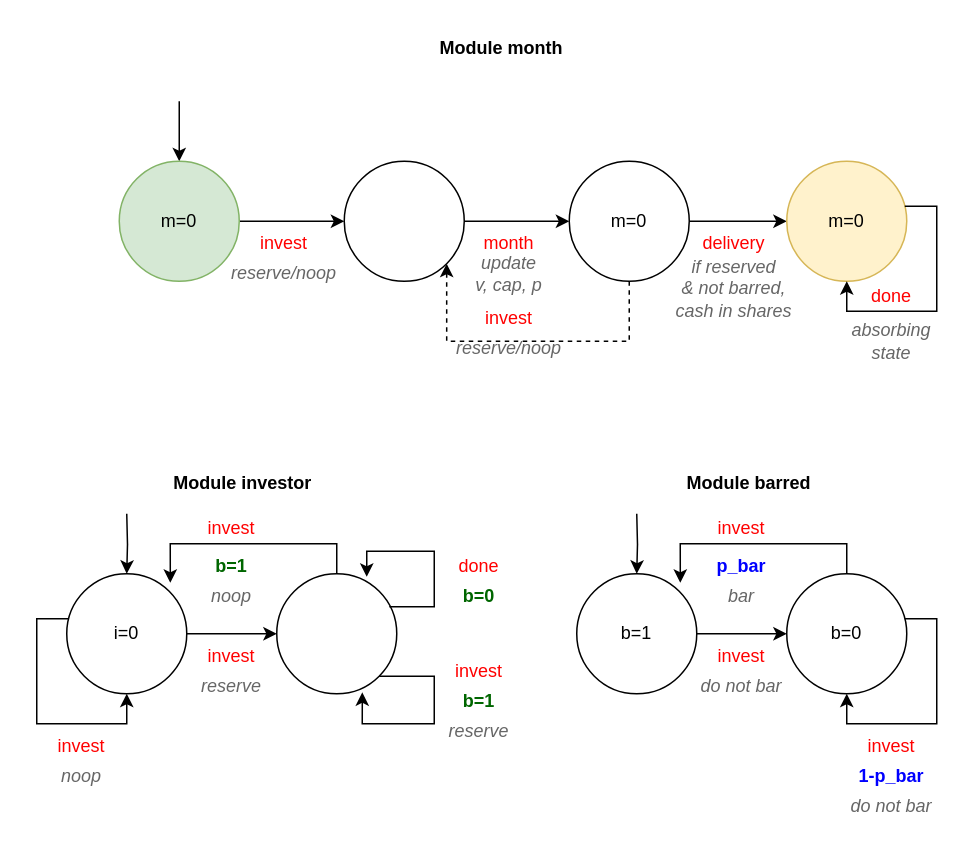
Some shapes in this 978 by 854 pixel diagram are drawn without their labels. The shapes that lost their labels are listed below. From the top down, each one's centre as x and y in pixels, then its label:
point 403,220: m=1
point 336,633: i=1
